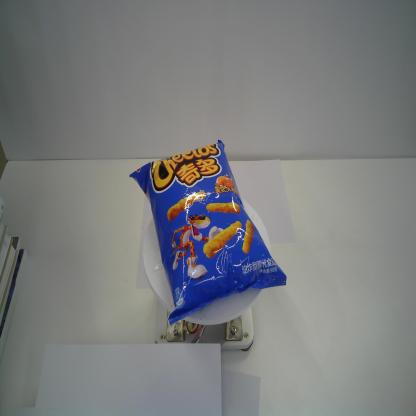Puffed Food: (128, 137, 288, 325)
